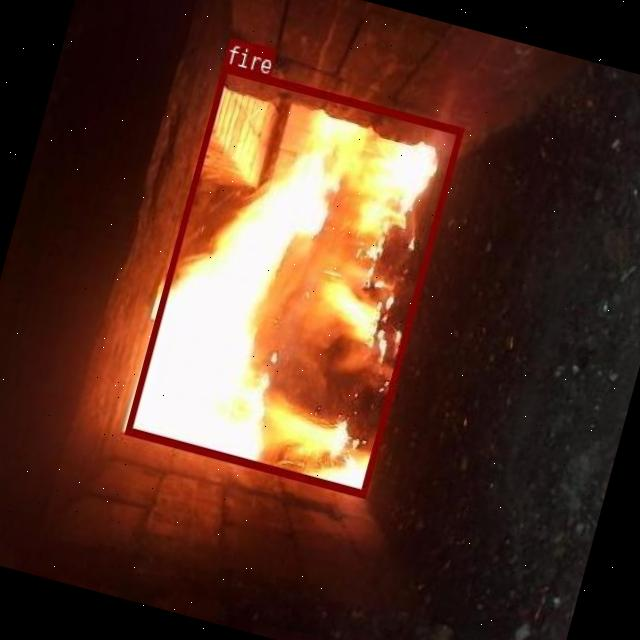fire: (123, 62, 463, 496)
